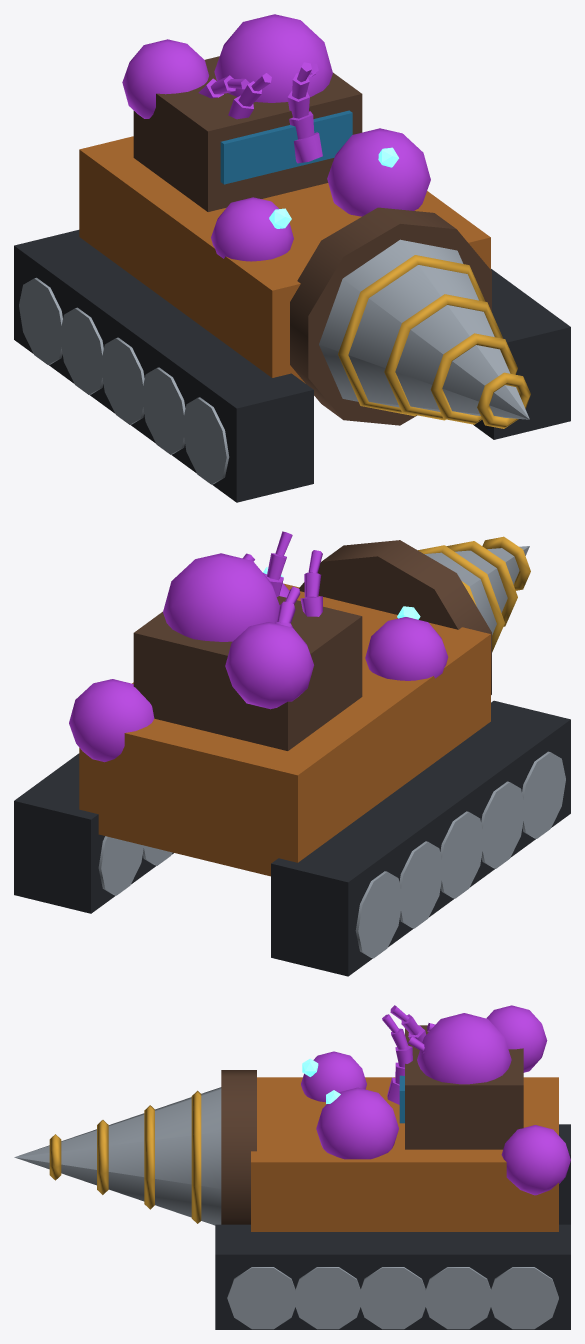
File: boss_driller.glb
The picture shows the model from 3 angles, top to bottom: view 1: azimuth 30°, elevation 25°; view 2: azimuth 150°, elevation 25°; view 3: azimuth 270°, elevation 25°; orthographic projection. The views are drawn at different scales.
Parts seen in each view (by area): view 1: enemy, drill, tentacle4; view 2: enemy, drill; view 3: enemy, drill, tentacle4.
Boxes of the visible parts, left/top/right/bottom form: enemy: left=14, top=14, right=570, bottom=502; drill: left=319, top=239, right=530, bottom=428; tentacle4: left=287, top=90, right=322, bottom=163; enemy: left=14, top=540, right=570, bottom=976; drill: left=418, top=536, right=530, bottom=652; enemy: left=215, top=1005, right=570, bottom=1329; drill: left=14, top=1087, right=221, bottom=1225; tentacle4: left=387, top=1045, right=412, bottom=1104.
Size of the model in its own units: 2.64 by 2.4 by 4.7.
